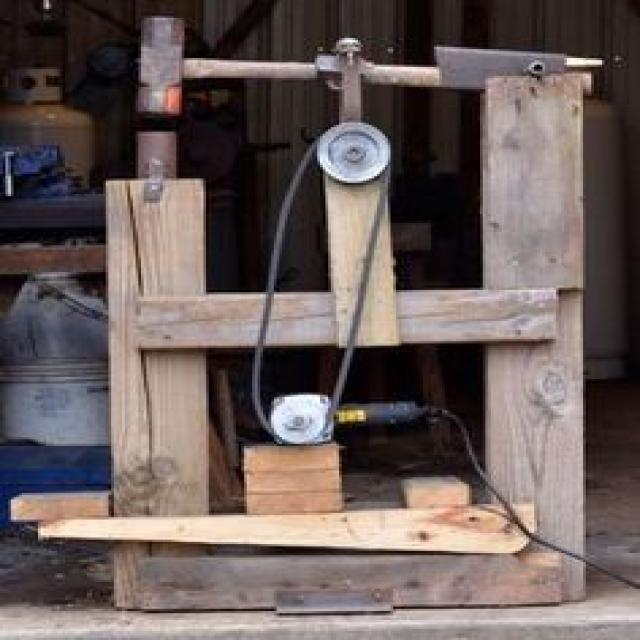hammer: (117, 10, 320, 122)
